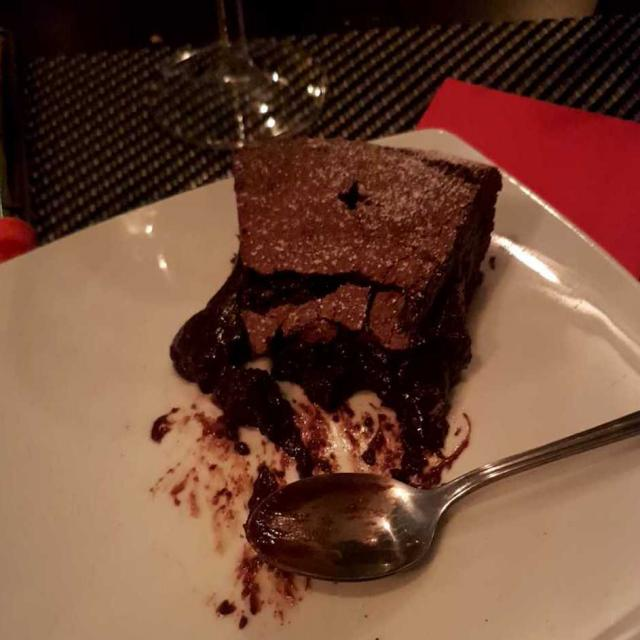cake-chocolate: (175, 142, 490, 477)
